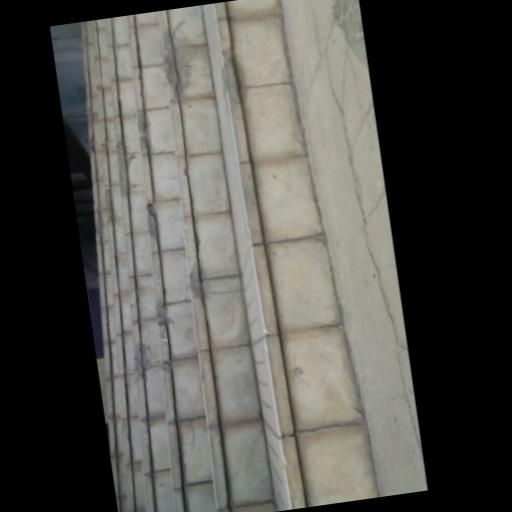stairs: (84, 0, 378, 511)
